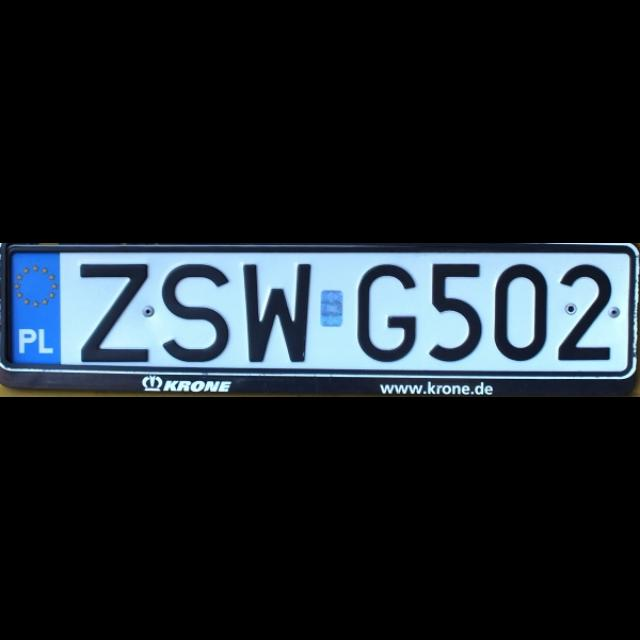pl_license_plate: (10, 252, 628, 372)
